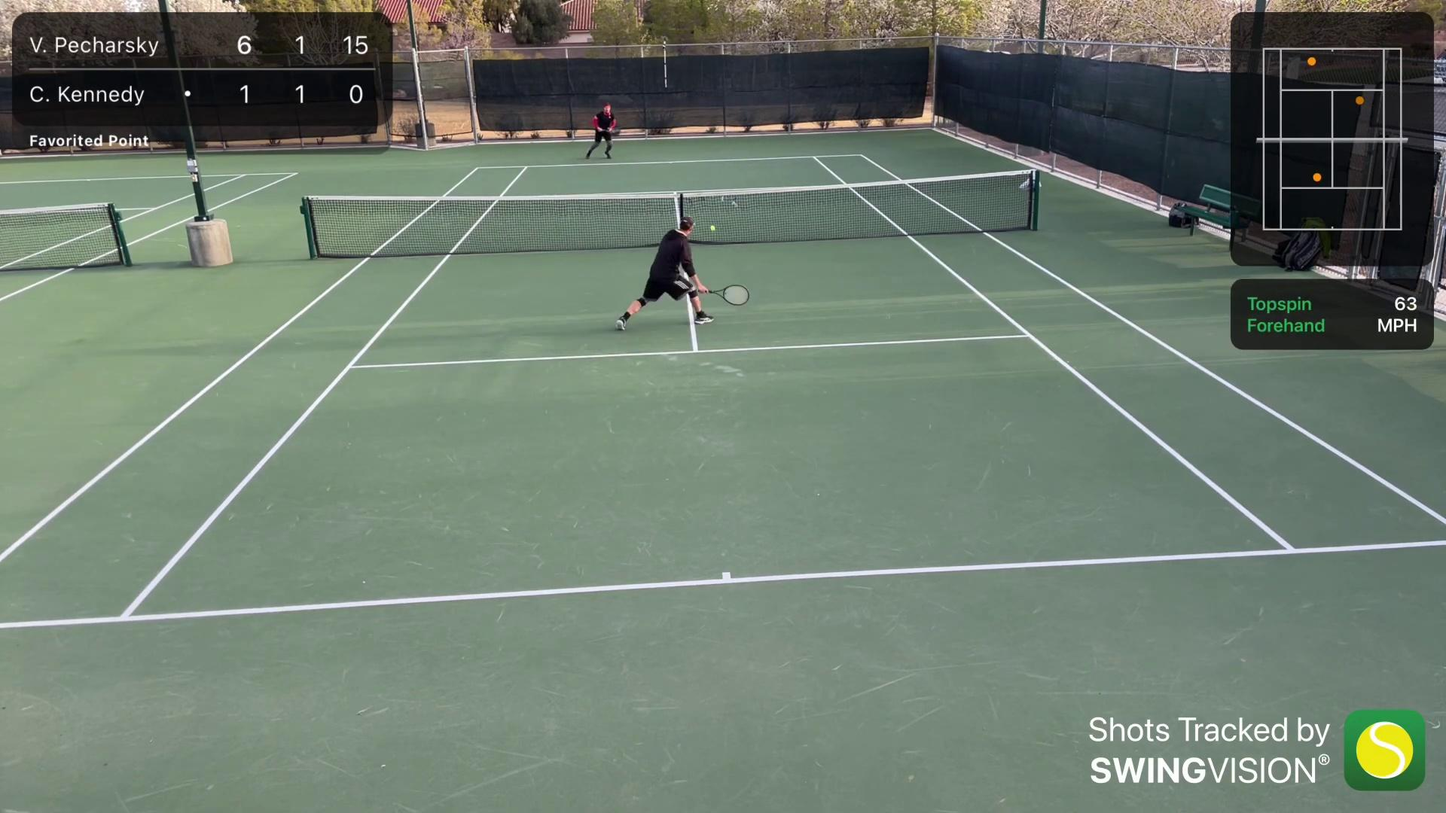ball: (706, 224, 717, 231)
